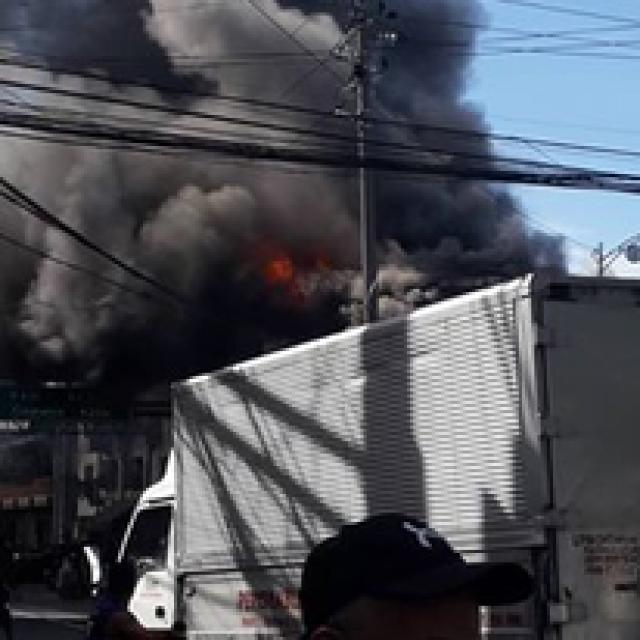Fire: (245, 223, 336, 311)
Smoke: (0, 0, 337, 281), (386, 0, 559, 266)
